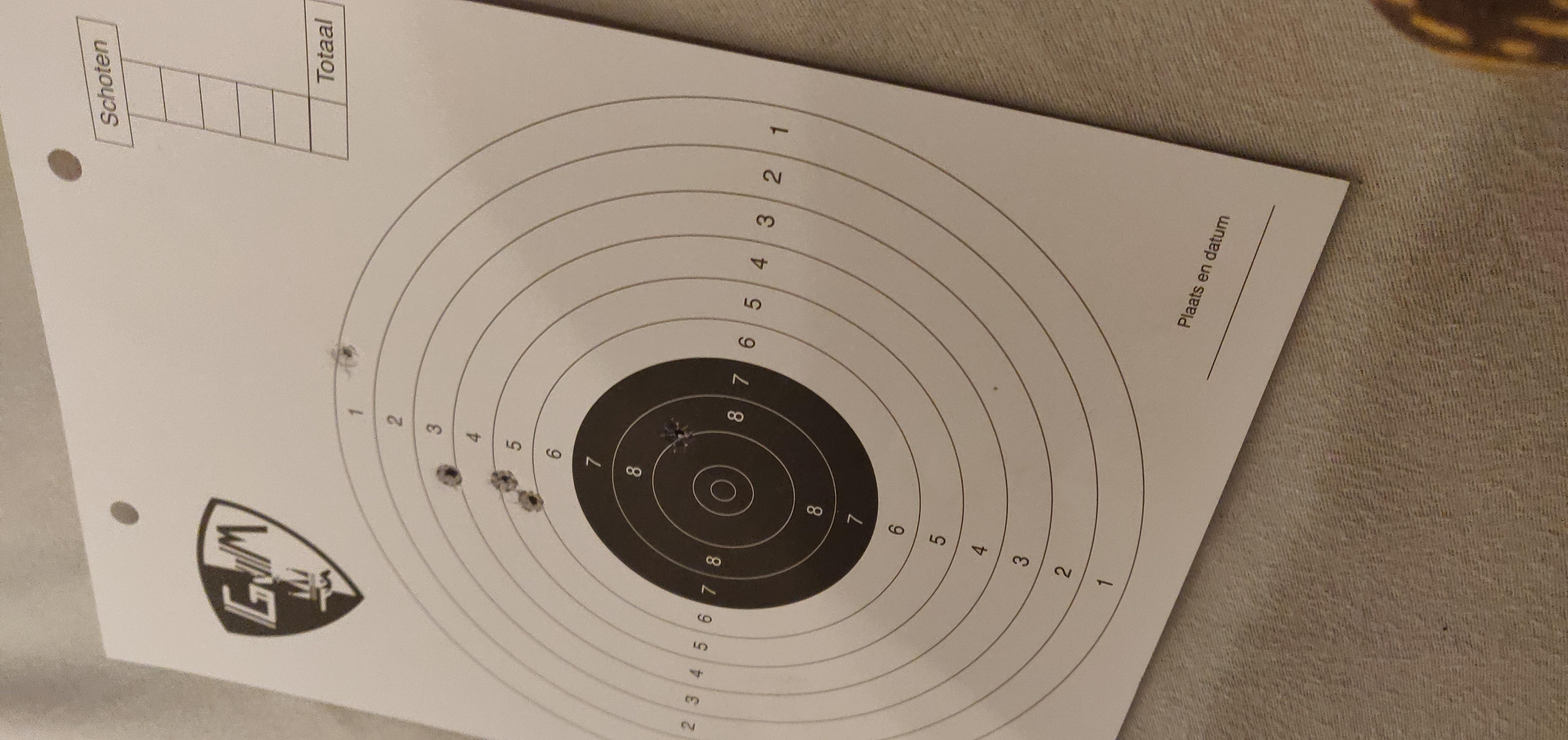hole: (875, 283, 912, 322), (1208, 361, 1239, 399), (1050, 244, 1082, 276), (1021, 220, 1052, 252), (1105, 249, 1138, 279)
